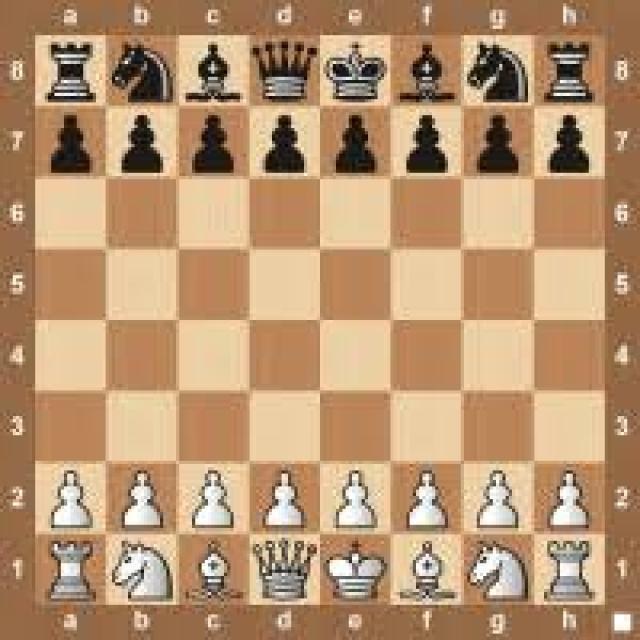chess-table-corners: (16, 580, 48, 621), (16, 16, 49, 52), (591, 21, 620, 52), (593, 592, 616, 616)
